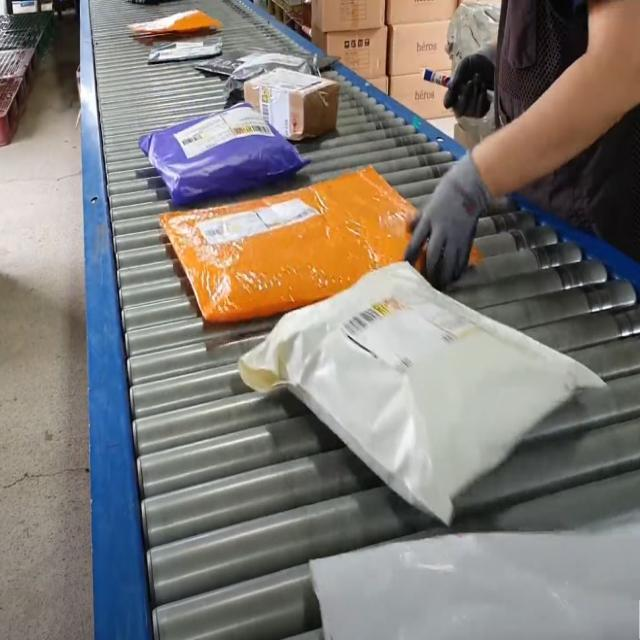gloved_hand: (401, 140, 492, 285), (441, 39, 502, 122)
